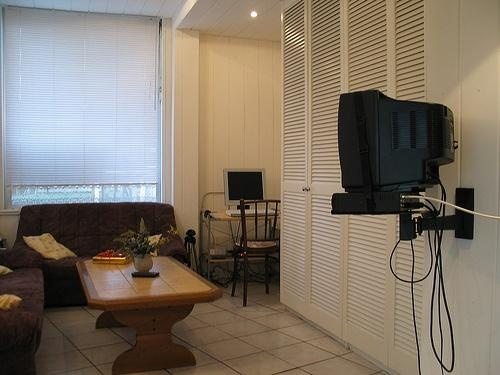chair: (230, 200, 281, 308)
sofa: (8, 203, 189, 308), (1, 245, 46, 375)
tvmonitor: (337, 90, 457, 194), (224, 168, 268, 206)
